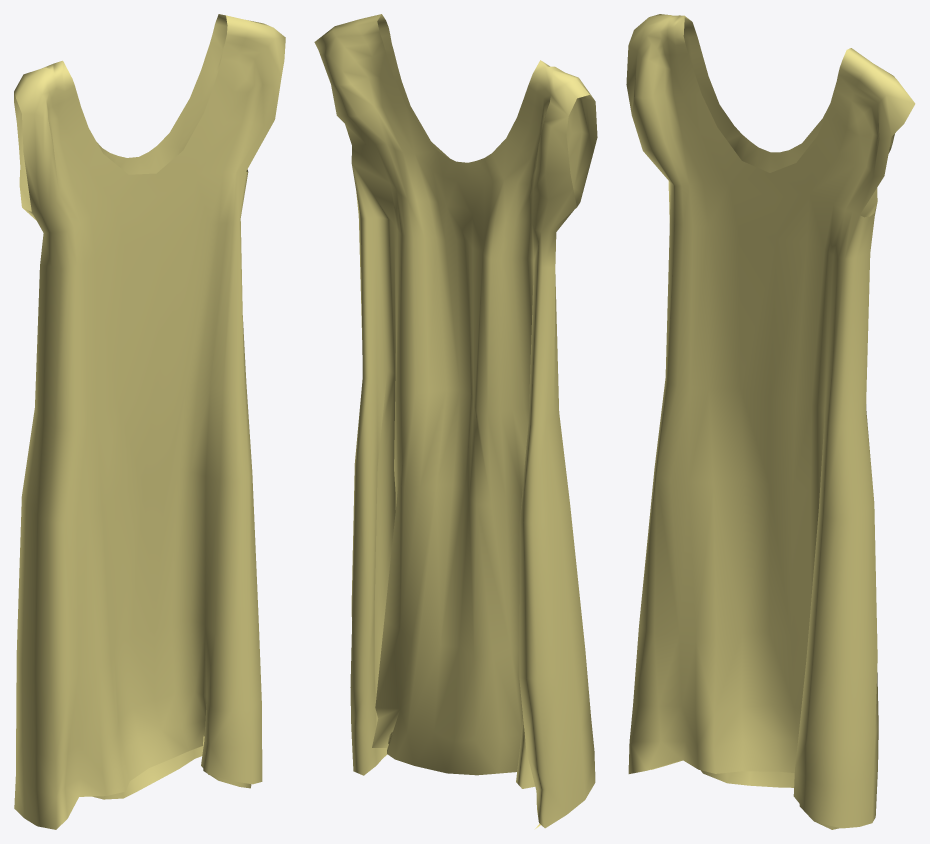
The model's file is Dress01.fbx.
3 views of the same model, side by side, from view 1: azimuth 30°, elevation 25°; view 2: azimuth 150°, elevation 25°; view 3: azimuth 330°, elevation 25° (orthographic). The views are drawn at different scales.
Parts seen in each view (by area): view 1: Dress01; view 2: Dress01; view 3: Dress01.
Part boxes in pixels (box(x1,y1,x2,y2)): Dress01: box(14, 14, 285, 829); Dress01: box(314, 14, 597, 829); Dress01: box(626, 14, 915, 829).
Size of the model in its own units: 49.7 by 133 by 16.52.
